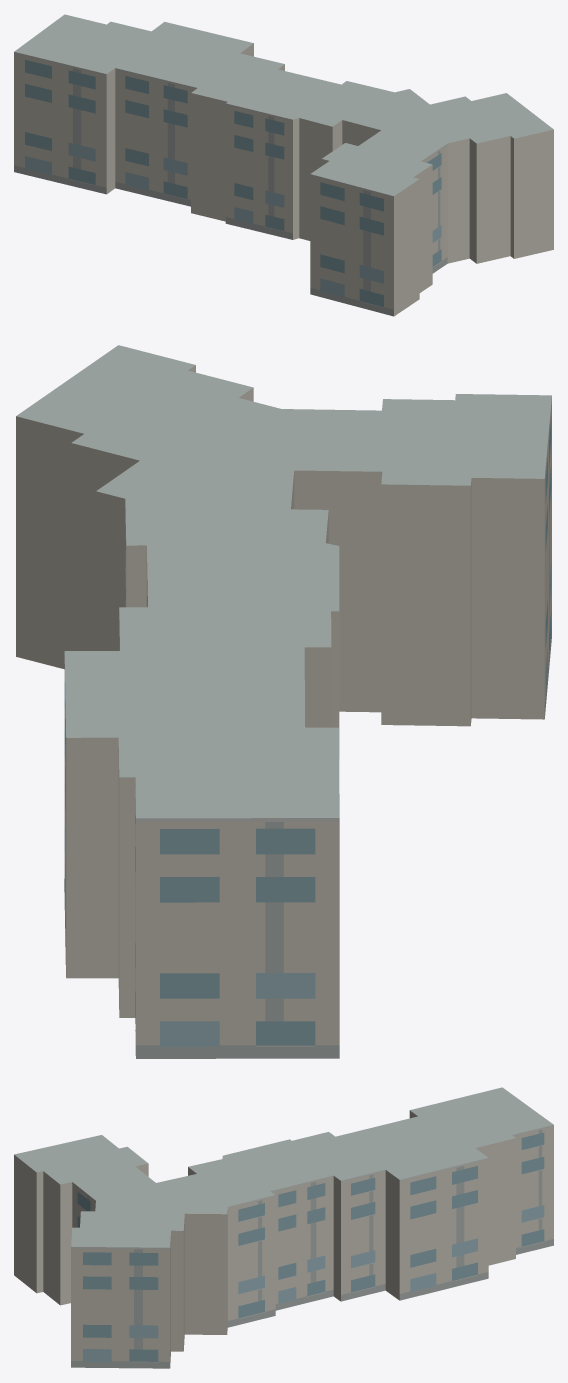
The model's file is residential-393ff029-f34b-469e-ab26-e0227e8d3d9f.glb.
3 renders of one model, top to bottom at view 1: azimuth 30°, elevation 25°; view 2: azimuth 150°, elevation 25°; view 3: azimuth 270°, elevation 25°, orthographic. The views are drawn at different scales.
Visible parts, largest first — view 1: residential-393ff029-f34b-469e-ab26-e0227e8d3d9f.tmp; view 2: residential-393ff029-f34b-469e-ab26-e0227e8d3d9f.tmp; view 3: residential-393ff029-f34b-469e-ab26-e0227e8d3d9f.tmp.
Boxes of the visible parts, x1,y1,x2,y2 form: residential-393ff029-f34b-469e-ab26-e0227e8d3d9f.tmp: [14, 14, 553, 316]; residential-393ff029-f34b-469e-ab26-e0227e8d3d9f.tmp: [16, 345, 551, 1058]; residential-393ff029-f34b-469e-ab26-e0227e8d3d9f.tmp: [14, 1087, 553, 1368].
Size of the model in its own units: 43.43 by 15.25 by 61.76.
